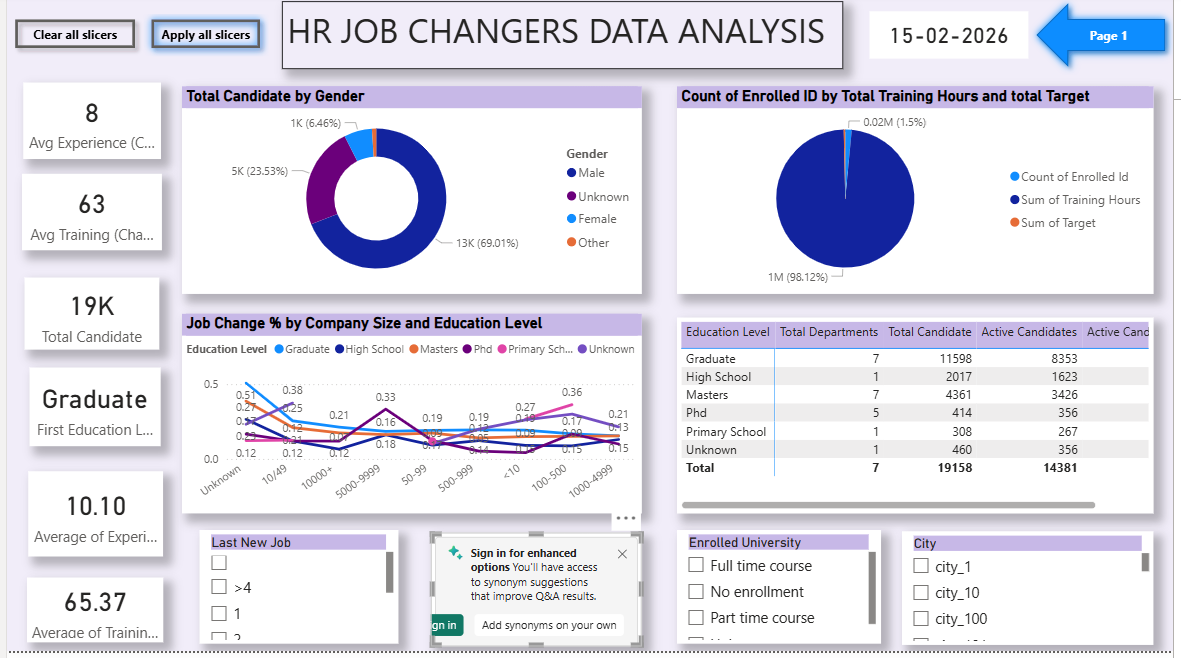

Layout of this report page (visuals, bound fields, positions):
{"tool":"powerbi","page":{"name":" Page 2","canvas":[1280,720],"ordinal":1},"visuals":[{"type":"textbox","box":[301.9,6.9,616.1,74.1],"z":0},{"type":"card","fields":{"Values":["My Dax Function.Avg Experience (Changers)"]},"box":[17.8,96.1,150.9,83.7],"z":1000},{"type":"card","fields":{"Values":["My Dax Function.Avg Training (Changers)"]},"box":[16.5,196.2,153.7,83.7],"z":2000},{"type":"card","fields":{"Values":["My Dax Function.Total Candidate"]},"box":[19.2,310.1,148.2,79.6],"z":3000},{"type":"card","fields":{"Values":["Min(Dim Education.Education Level)"]},"box":[24.7,408.9,144.1,86.4],"z":4000},{"type":"card","fields":{"Values":["Avg(Train Data.Experience)"]},"box":[23.3,522.8,148.2,93.3],"z":5000},{"type":"card","fields":{"Values":["Avg(Train Data.Training Hours)"]},"box":[22,639.5,149.6,71.4],"z":6000},{"type":"donutChart","title":"Total Candidate by Gender","fields":{"Category":["Train Data.Gender"],"Y":["My Dax Function.Total Candidate"]},"box":[192.1,100.2,505,227.8],"z":7000},{"type":"pieChart","title":" Count of Enrolled ID by Total Training Hours and total Target","fields":{"Y":["CountNonNull(Train Data.Enrolled Id)","Sum(Train Data.Training Hours)","Sum(Train Data.Target)"]},"box":[735.5,100.2,522.8,227.8],"z":8000},{"type":"pivotTable","fields":{"Values":["My Dax Function.Total Departments","My Dax Function.Total Candidate","My Dax Function.Active Candidates","My Dax Function.Active Candidate %"],"Rows":["Train Data.Education Level"]},"box":[735.5,354,522.8,215.4],"z":9000},{"type":"lineChart","fields":{"Category":["Train Data.Company Size"],"Y":["My Dax Function.Job Change %"],"Series":["Train Data.Education Level"]},"box":[192.1,349.9,505,219.6],"z":10000},{"type":"slicer","fields":{"Values":["Train Data.Last New Job"]},"box":[211.3,587.3,218.2,124.9],"z":11000},{"type":"slicer","fields":{"Values":["Train Data.Relevent Experience"]},"box":[465.2,588.7,231.9,124.9],"z":12000},{"type":"slicer","fields":{"Values":["Train Data.Enrolled University"]},"box":[735.5,587.3,223.7,124.9],"z":13000},{"type":"slicer","fields":{"Values":["Train Data.City"]},"box":[982.5,588.7,275.8,124.9],"z":14000},{"type":"shape","box":[1121.1,0,159.2,87.8],"z":14001},{"type":"card","fields":{"Values":["My Dax Function.Today"]},"box":[946.8,17.8,174.3,52.1],"z":14002},{"type":"actionButton","box":[0,17.8,149.6,49.4],"z":14003},{"type":"actionButton","box":[149.6,17.8,137.2,49.4],"z":14004}]}

Visuals, with their boxes on the page's 1280x720 design canvas (x1, y1, x2, y2). These are canvas units, not pixel positions in the 1181x658 screenshot, which may show the page scaled, cropped or inside an application window:
textbox: Rect(302, 7, 918, 81)
card - My Dax Function.Avg Experience (Changers): Rect(18, 96, 169, 180)
card - My Dax Function.Avg Training (Changers): Rect(16, 196, 170, 280)
card - My Dax Function.Total Candidate: Rect(19, 310, 167, 390)
card - Min(Dim Education.Education Level): Rect(25, 409, 169, 495)
card - Avg(Train Data.Experience): Rect(23, 523, 172, 616)
card - Avg(Train Data.Training Hours): Rect(22, 640, 172, 711)
"Total Candidate by Gender" donutChart: Rect(192, 100, 697, 328)
" Count of Enrolled ID by Total Training Hours and total Target" pieChart: Rect(736, 100, 1258, 328)
pivotTable - My Dax Function.Total Departments x My Dax Function.Total Candidate: Rect(736, 354, 1258, 569)
lineChart - Train Data.Company Size x My Dax Function.Job Change %: Rect(192, 350, 697, 570)
slicer - Train Data.Last New Job: Rect(211, 587, 430, 712)
slicer - Train Data.Relevent Experience: Rect(465, 589, 697, 714)
slicer - Train Data.Enrolled University: Rect(736, 587, 959, 712)
slicer - Train Data.City: Rect(982, 589, 1258, 714)
shape: Rect(1121, 0, 1280, 88)
card - My Dax Function.Today: Rect(947, 18, 1121, 70)
actionButton: Rect(0, 18, 150, 67)
actionButton: Rect(150, 18, 287, 67)
